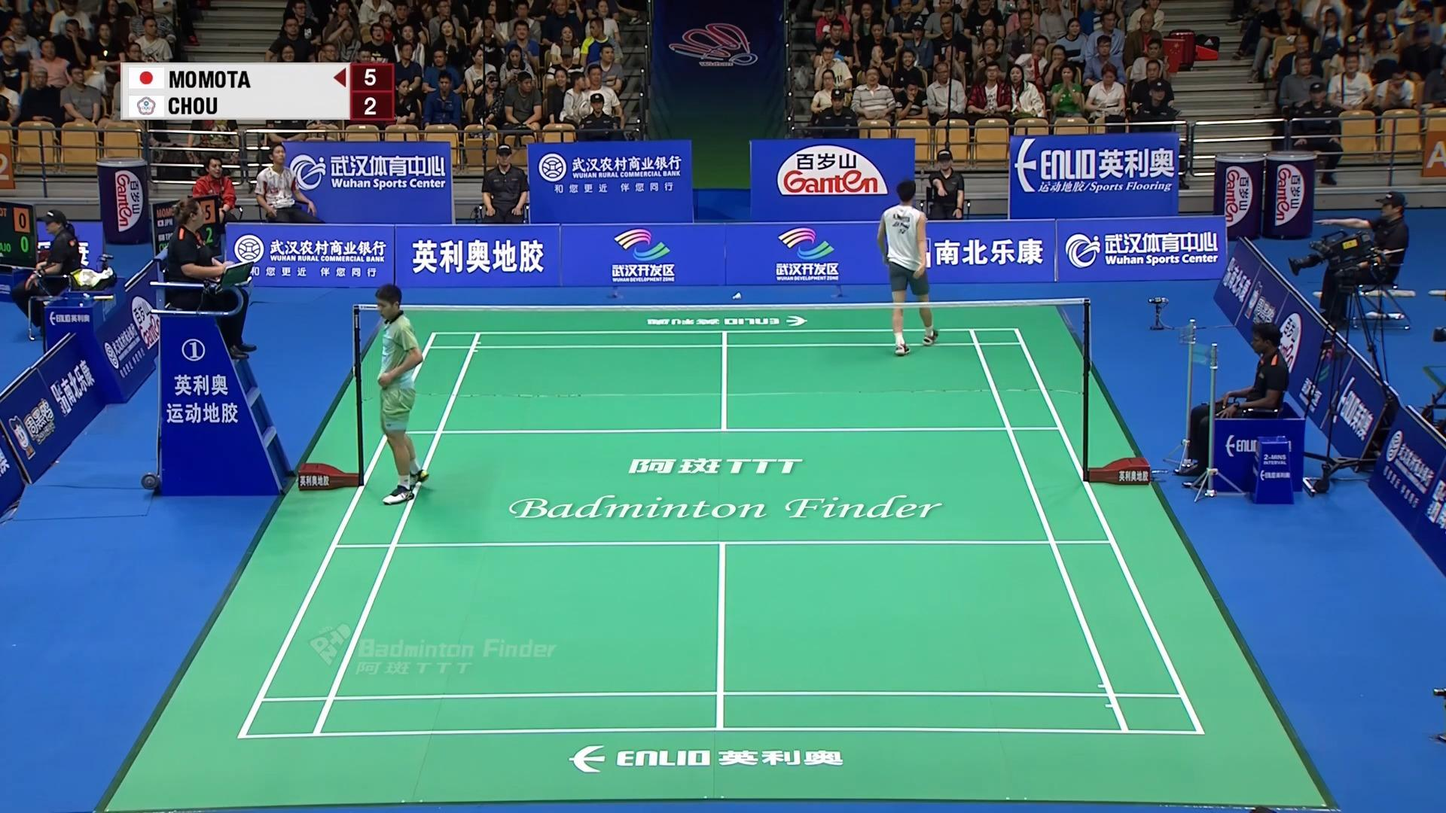player: (378, 284, 430, 508), (878, 179, 939, 357)
shuttlecock: (732, 292, 742, 300)
